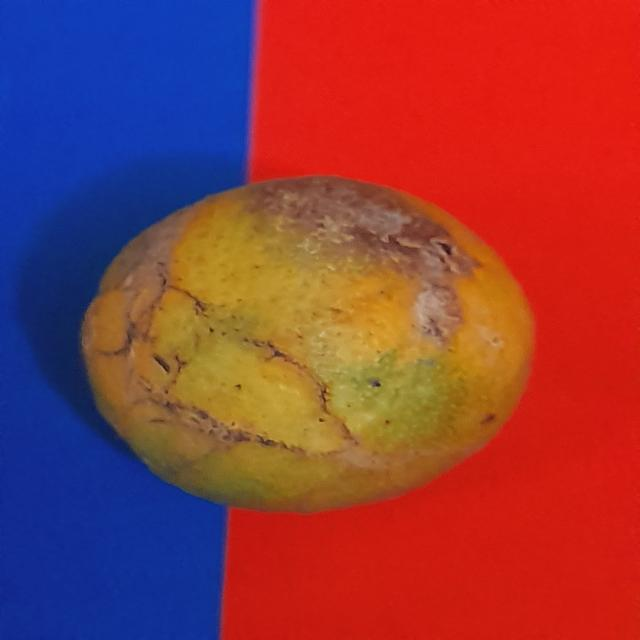thrips: (81, 172, 531, 498)
